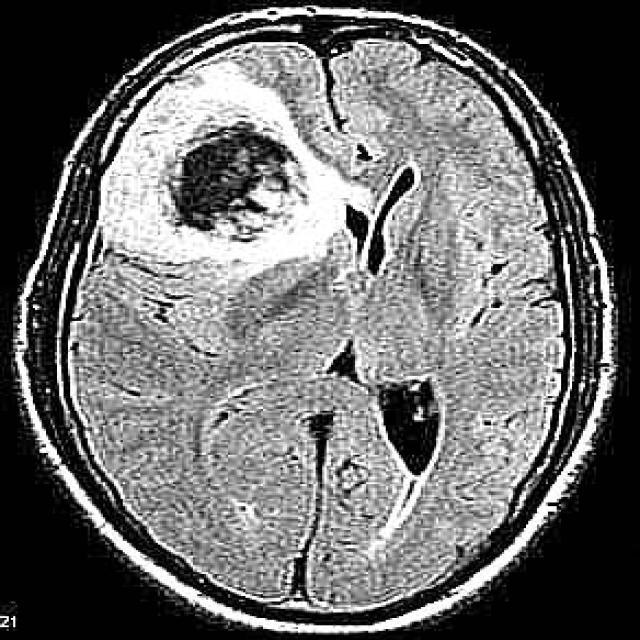brain tumor: (99, 59, 373, 262)
